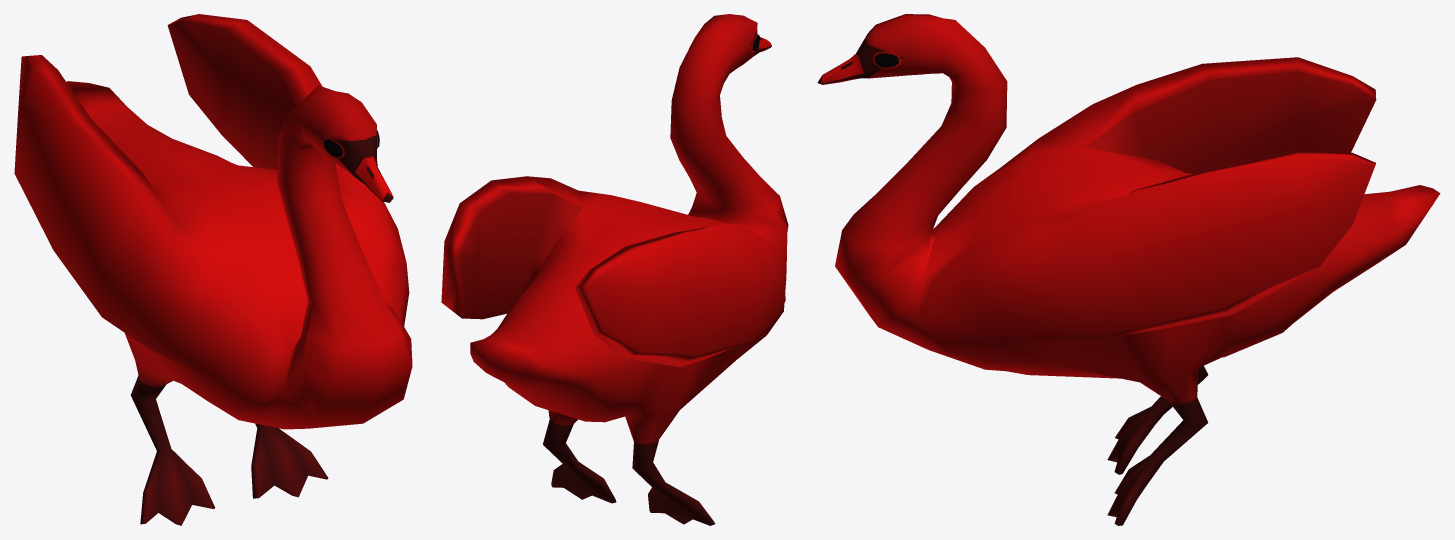
Rendered from BirdsUpright_Swan.fbx.
3 renders of one model, left to right at view 1: azimuth 30°, elevation 25°; view 2: azimuth 150°, elevation 25°; view 3: azimuth 270°, elevation 25°, orthographic. The views are drawn at different scales.
Visible parts, largest first — view 1: base; view 2: base; view 3: base.
Part boxes in pixels (x1,y1,x2,y2): base: (14, 14, 412, 525); base: (441, 14, 788, 525); base: (817, 14, 1440, 525).
Size of the model in its own units: 76.93 by 132 by 157.
